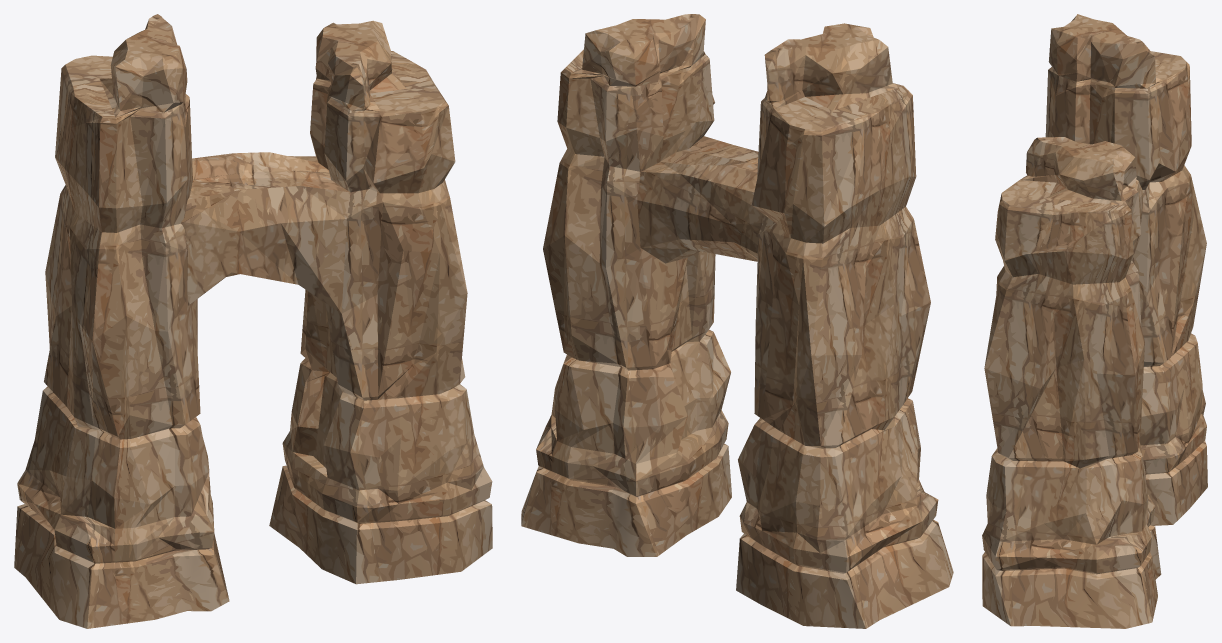
The model's file is Rock_bridge.FBX.
The picture shows the model from 3 angles, left to right: view 1: azimuth 30°, elevation 25°; view 2: azimuth 150°, elevation 25°; view 3: azimuth 270°, elevation 25°; orthographic projection. The views are drawn at different scales.
Visible parts, largest first — view 1: RockBridge; view 2: RockBridge; view 3: RockBridge.
Boxes of the visible parts, box(x1,y1,x2,y2) form: RockBridge: box(14, 14, 492, 628); RockBridge: box(521, 14, 953, 628); RockBridge: box(982, 14, 1207, 628).
Size of the model in its own units: 427 by 547 by 237.
